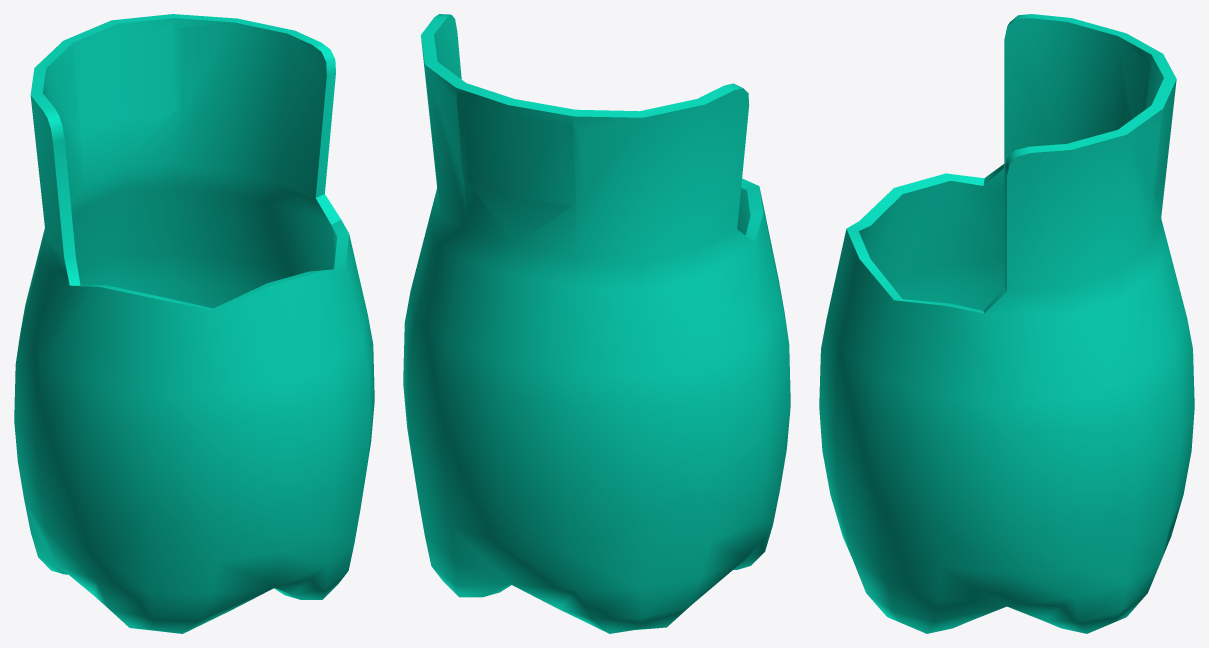
3 renders of one model, left to right at view 1: azimuth 30°, elevation 25°; view 2: azimuth 150°, elevation 25°; view 3: azimuth 270°, elevation 25°, orthographic. The views are drawn at different scales.
Parts seen in each view (by area): view 1: New Water Bottle 03 Mobile Stand, 03 Cut Area; view 2: New Water Bottle 03 Mobile Stand, 03 Cut Area; view 3: New Water Bottle 03 Mobile Stand, 03 Cut Area.
Boxes of the visible parts, left/top/right/bottom form: New Water Bottle 03 Mobile Stand: left=14, top=14, right=374, bottom=633; 03 Cut Area: left=70, top=28, right=188, bottom=135; New Water Bottle 03 Mobile Stand: left=403, top=14, right=790, bottom=633; 03 Cut Area: left=455, top=97, right=583, bottom=205; New Water Bottle 03 Mobile Stand: left=819, top=14, right=1194, bottom=633; 03 Cut Area: left=1138, top=64, right=1175, bottom=195.
Size of the model in its own units: 0.1482 by 0.2237 by 0.1488.
